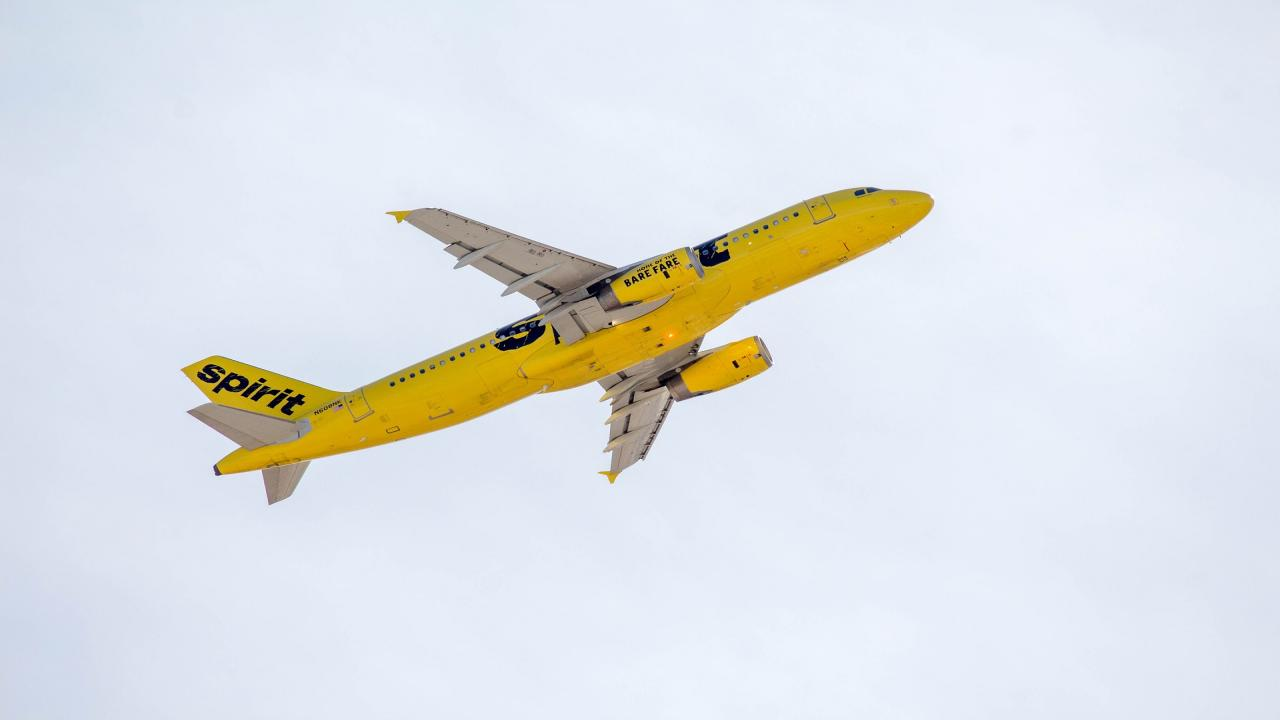Airplane: (165, 169, 940, 511)
